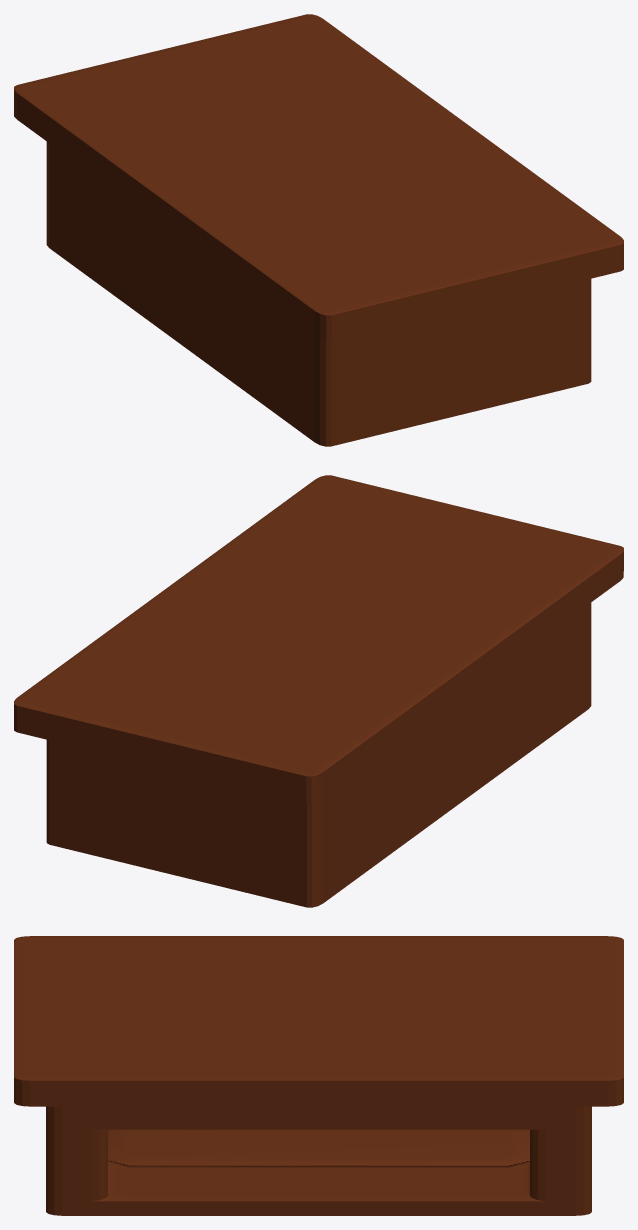
The model's file is Table3.fbx.
3 views of the same model, one above another, from view 1: azimuth 30°, elevation 25°; view 2: azimuth 150°, elevation 25°; view 3: azimuth 270°, elevation 25° (orthographic). The views are drawn at different scales.
Visible parts, largest first — view 1: Cube.022; view 2: Cube.022; view 3: Cube.022, Cube.023.
Part boxes in pixels (bbox=[...]): Cube.022: bbox=[14, 14, 623, 446]; Cube.022: bbox=[14, 475, 623, 907]; Cube.022: bbox=[14, 936, 623, 1215]; Cube.023: bbox=[108, 1129, 529, 1168].
Bounding box in the file's own units: 200 × 92.99 × 357.
